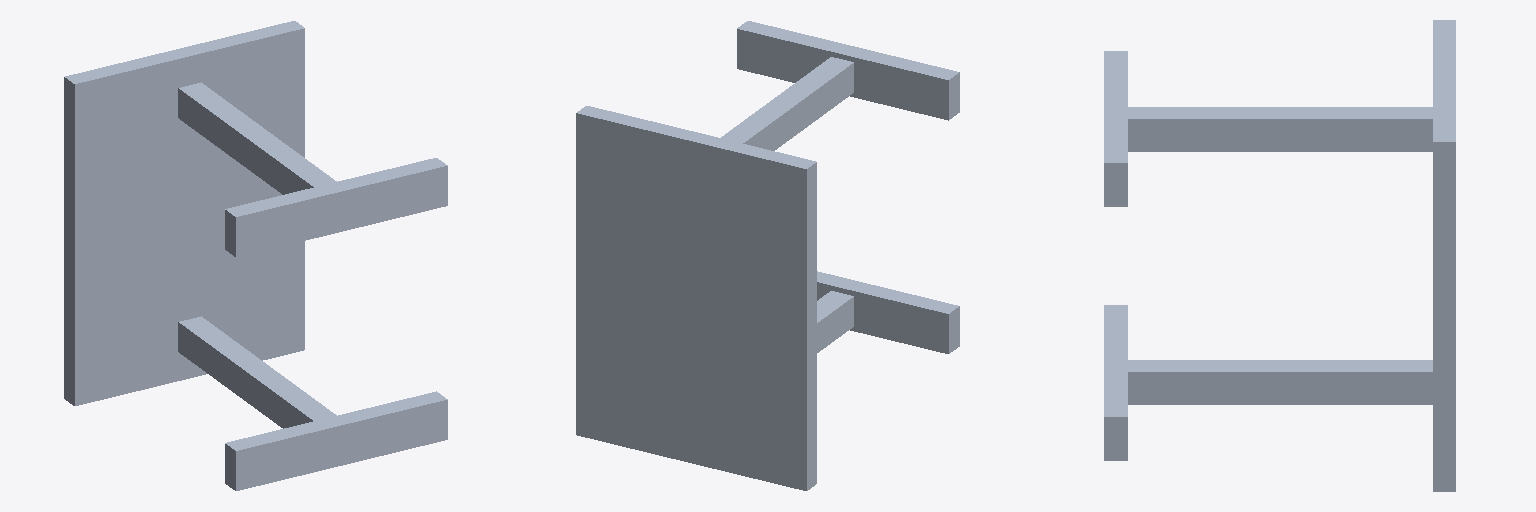
The robot description file, URDF, robot "core4d_desk001_small_training":
<?xml version="1.0"?>
<robot name="core4d_desk001_small_training">
  <material name="core4d_smalltable_material">
    <color rgba="0.76 0.80 0.86 1.0"/>
  </material>

  <link name="desk001_link">
    <!--
      Portable training proxy for CORE4D desk001 at scale 0.741228385619.

      The five boxes and local origins are frozen from the reviewed retarget
      preview. CORE4D supplies no trusted mass/contact material: 20 kg is the
      explicit experiment baseline. PhysX material is fixed in the isolated
      experiment configuration.
    -->
    <inertial>
      <origin xyz="0 0.126415000089 0" rpy="0 0 0"/>
      <mass value="20.0"/>
      <inertia
        ixx="1.508353334770"
        ixy="0"
        ixz="0"
        iyy="0.964473631150"
        iyz="0"
        izz="1.070457149412"
      />
    </inertial>

    <visual name="desk001_tabletop_visual">
      <origin xyz="0 0.253129493689 0" rpy="0 0 0"/>
      <geometry><box size="0.443699311632 0.0348377341241 0.592241480110"/></geometry>
      <material name="core4d_smalltable_material"/>
    </visual>
    <collision name="desk001_tabletop">
      <origin xyz="0 0.253129493689 0" rpy="0 0 0"/>
      <geometry><box size="0.443699311632 0.0348377341241 0.592241480110"/></geometry>
    </collision>

    <visual name="desk001_vertical_support_negative_z_visual">
      <origin xyz="0 -0.0037061419281 -0.214956231830" rpy="0 0 0"/>
      <geometry><box size="0.0444737031371 0.485504592580 0.0555921289214"/></geometry>
      <material name="core4d_smalltable_material"/>
    </visual>
    <collision name="desk001_vertical_support_negative_z">
      <origin xyz="0 -0.0037061419281 -0.214956231830" rpy="0 0 0"/>
      <geometry><box size="0.0444737031371 0.485504592580 0.0555921289214"/></geometry>
    </collision>

    <visual name="desk001_vertical_support_positive_z_visual">
      <origin xyz="0 -0.0037061419281 0.214956231830" rpy="0 0 0"/>
      <geometry><box size="0.0444737031371 0.485504592580 0.0555921289214"/></geometry>
      <material name="core4d_smalltable_material"/>
    </visual>
    <collision name="desk001_vertical_support_positive_z">
      <origin xyz="0 -0.0037061419281 0.214956231830" rpy="0 0 0"/>
      <geometry><box size="0.0444737031371 0.485504592580 0.0555921289214"/></geometry>
    </collision>

    <visual name="desk001_bottom_foot_negative_z_visual">
      <origin xyz="0 -0.252017651110 -0.214956231830" rpy="0 0 0"/>
      <geometry><box size="0.407675612090 0.037061419281 0.0741228385619"/></geometry>
      <material name="core4d_smalltable_material"/>
    </visual>
    <collision name="desk001_bottom_foot_negative_z">
      <origin xyz="0 -0.252017651110 -0.214956231830" rpy="0 0 0"/>
      <geometry><box size="0.407675612090 0.037061419281 0.0741228385619"/></geometry>
    </collision>

    <visual name="desk001_bottom_foot_positive_z_visual">
      <origin xyz="0 -0.252017651110 0.214956231830" rpy="0 0 0"/>
      <geometry><box size="0.407675612090 0.037061419281 0.0741228385619"/></geometry>
      <material name="core4d_smalltable_material"/>
    </visual>
    <collision name="desk001_bottom_foot_positive_z">
      <origin xyz="0 -0.252017651110 0.214956231830" rpy="0 0 0"/>
      <geometry><box size="0.407675612090 0.037061419281 0.0741228385619"/></geometry>
    </collision>
  </link>
</robot>

--- What the picture shows (computed from the rendered views, not written in the file) ---
The picture shows the robot from 3 angles, left to right: view 1: azimuth 30°, elevation 25°; view 2: azimuth 150°, elevation 25°; view 3: azimuth 270°, elevation 25°; orthographic projection.
Model core4d_desk001_small_training with 1 links and 0 joints (none), rooted at desk001_link, posed all joints at 0.
Links seen in each view (by area): view 1: desk001_link; view 2: desk001_link; view 3: desk001_link.
Link boxes in pixels (x1,y1,x2,y2): desk001_link: (64,21,447,490); desk001_link: (576,21,959,490); desk001_link: (1104,20,1455,491).
Size in the robot's own frame: 0.4437 by 0.5411 by 0.5922 metres.
Geometry: primitives only (box / cylinder / sphere), no mesh files.
